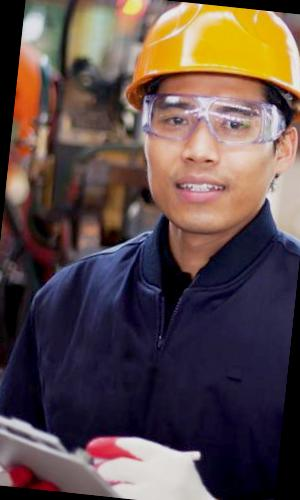helmet: (109, 0, 300, 126)
person: (10, 0, 300, 498)
